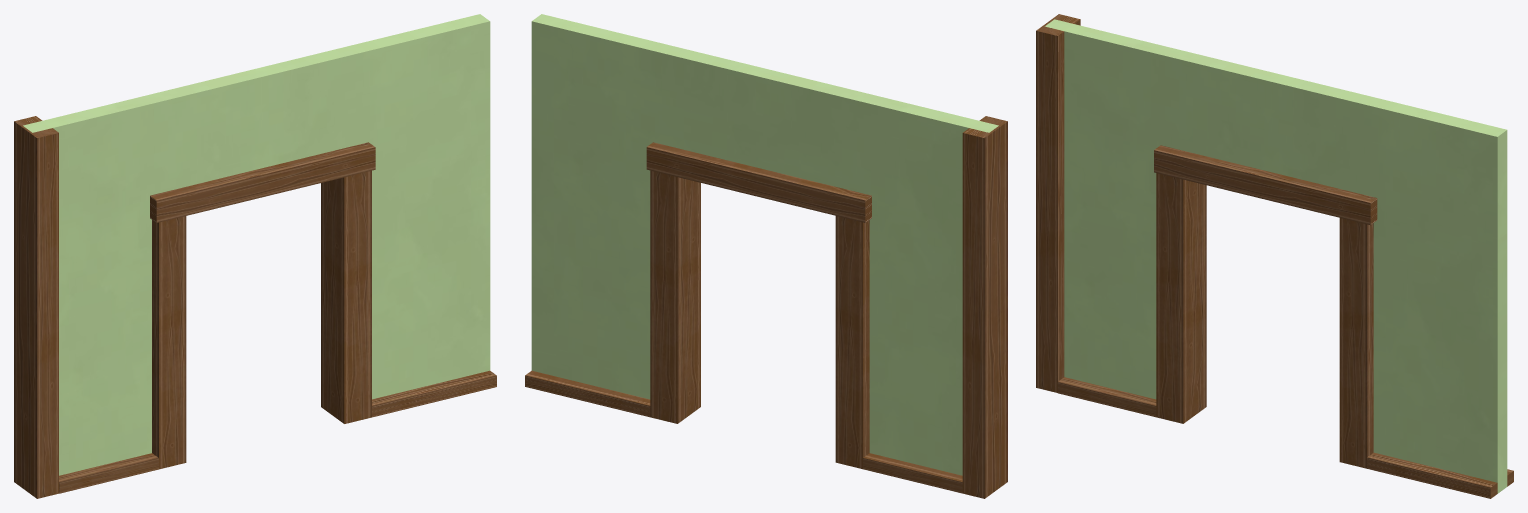
Rendered from SM_Door_Wall_01_wmint.glb.
3 views of the same model, side by side, from view 1: azimuth 30°, elevation 25°; view 2: azimuth 150°, elevation 25°; view 3: azimuth 330°, elevation 25° (orthographic).
Visible parts, largest first — view 1: SM_Door_Wall_01; view 2: SM_Door_Wall_01; view 3: SM_Door_Wall_01.
Boxes of the visible parts, x1,y1,x2,y2 form: SM_Door_Wall_01: (14,14,496,498); SM_Door_Wall_01: (525,14,1007,498); SM_Door_Wall_01: (1036,14,1513,498).
Size of the model in its own units: 4 by 3 by 0.3524.
Materials: 2 (2 with a texture image).
